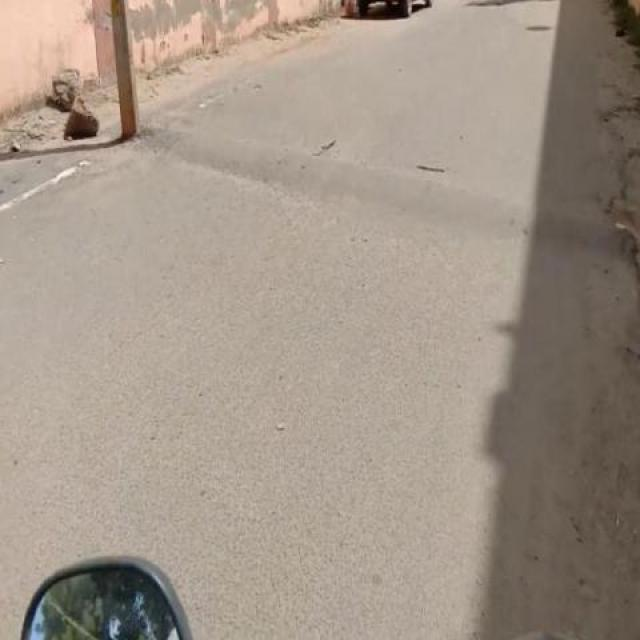Unmarked Bump: (138, 120, 638, 274)
